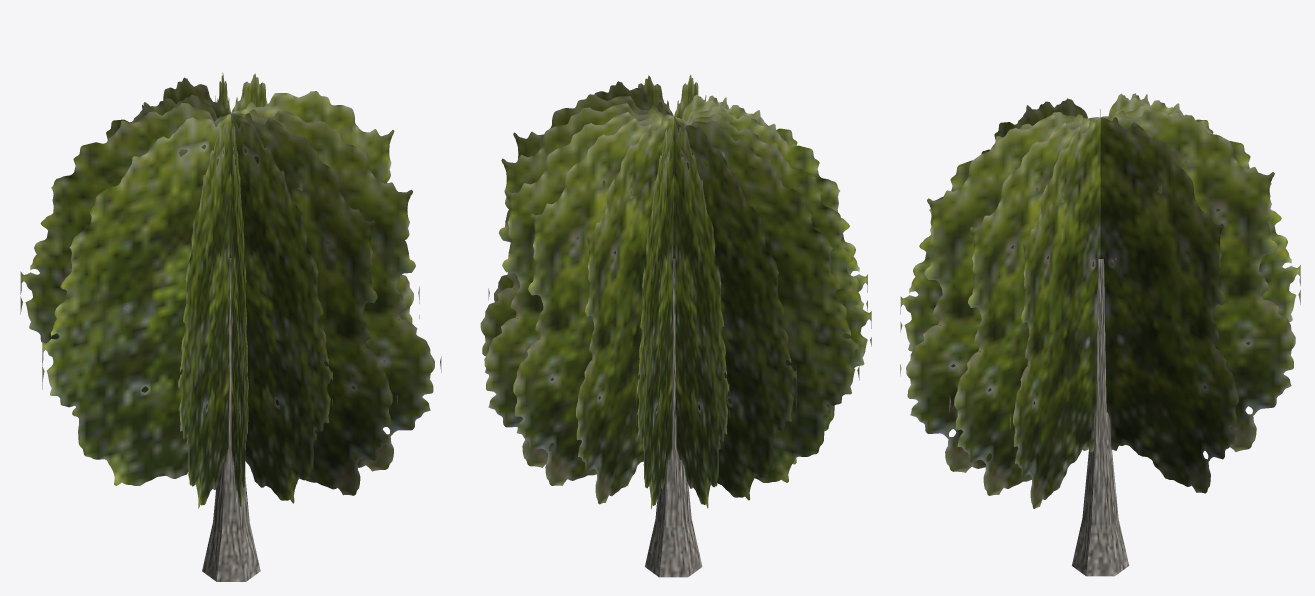
Rendered from Tree.fbx.
The picture shows the model from 3 angles, left to right: view 1: azimuth 30°, elevation 25°; view 2: azimuth 150°, elevation 25°; view 3: azimuth 270°, elevation 25°; orthographic projection. The views are drawn at different scales.
Visible parts, largest first — view 1: Cylinder.011; view 2: Cylinder.011; view 3: Cylinder.011.
Part boxes in pixels (left/top/right/bottom): Cylinder.011: left=20, top=72, right=441, bottom=581; Cylinder.011: left=480, top=74, right=871, bottom=577; Cylinder.011: left=900, top=93, right=1300, bottom=576.
Size of the model in its own units: 1485 by 1774 by 1395.
